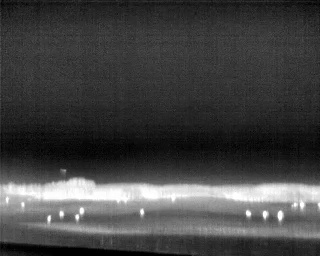AIRPLANE: (59, 165, 70, 177)
